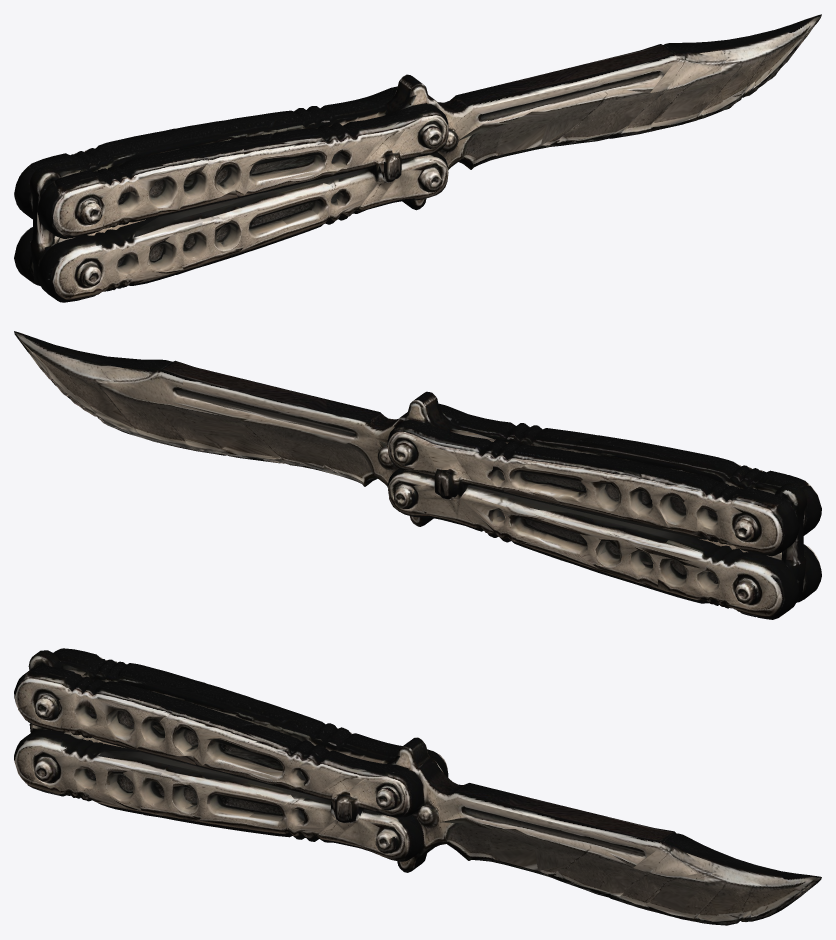
File: butterfly.glb
3 views of the same model, one above another, from view 1: azimuth 30°, elevation 25°; view 2: azimuth 150°, elevation 25°; view 3: azimuth 330°, elevation 25° (orthographic).
Visible parts, largest first — view 1: tripo_node_dd77a75d-c058-40ea-926f-d5c2eb3693d9; view 2: tripo_node_dd77a75d-c058-40ea-926f-d5c2eb3693d9; view 3: tripo_node_dd77a75d-c058-40ea-926f-d5c2eb3693d9.
Part boxes in pixels (x1,y1,x2,y2): tripo_node_dd77a75d-c058-40ea-926f-d5c2eb3693d9: (14, 14, 821, 302); tripo_node_dd77a75d-c058-40ea-926f-d5c2eb3693d9: (14, 331, 821, 619); tripo_node_dd77a75d-c058-40ea-926f-d5c2eb3693d9: (14, 648, 821, 925).
Bounding box in the file's own units: 0.9819 × 0.1501 × 0.112.
1 material, 1 textured.
